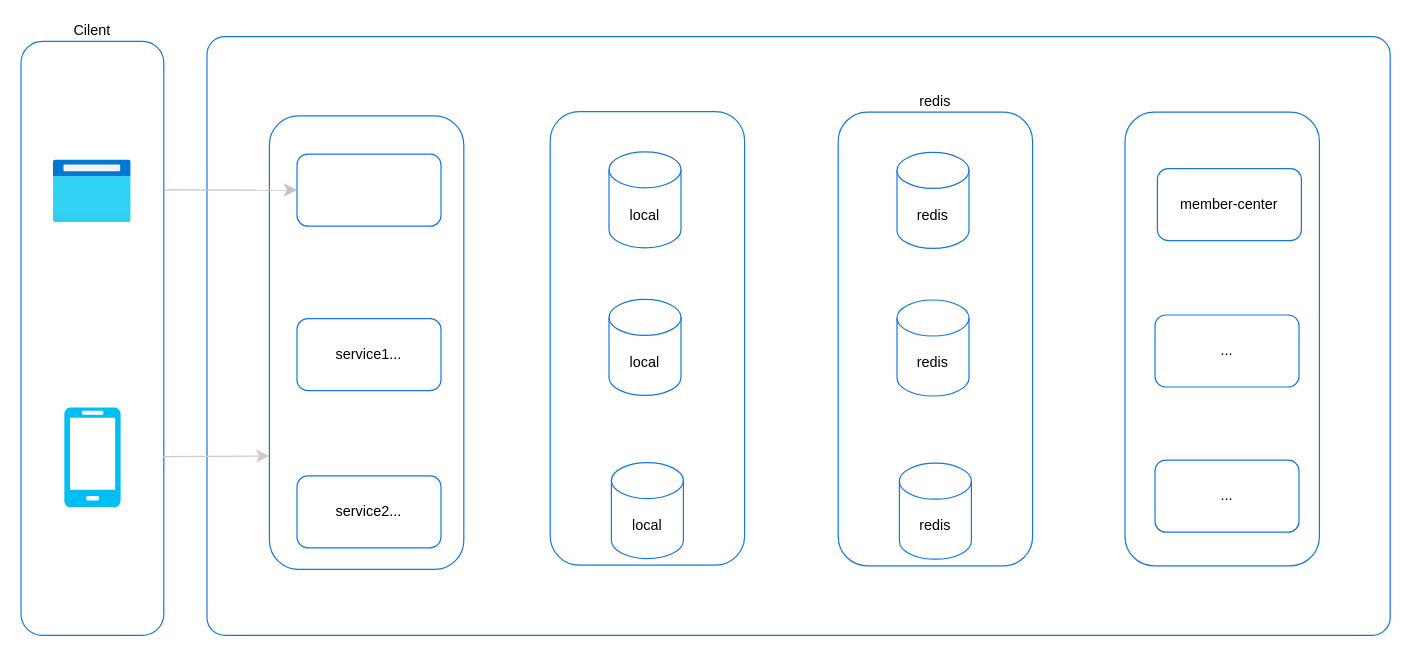
Some shapes in this 1411 by 656 pixel diagram are drawn without their labels. The box of each missing label's shape, as (x1, y1, x2, y2) in pixels:
local cache: (549, 110, 745, 565)
Mobile: (64, 407, 120, 506)
promotion-service: (296, 153, 441, 226)
services: (268, 115, 464, 569)
Web: (53, 160, 131, 222)
